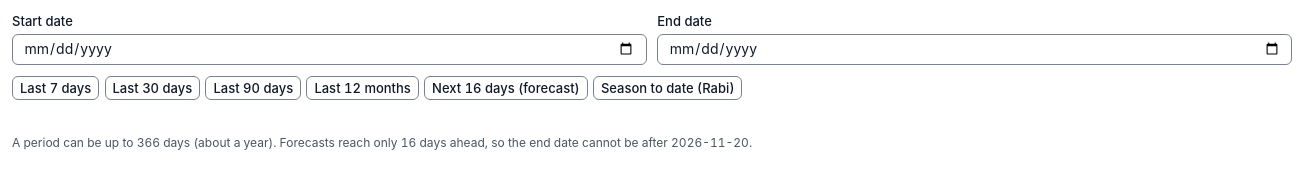
Test case: DateRangeField › warns that long periods take longer, but not for short ones
Type "2026-10-01" into the date field labelled "Start date" at (329, 49), box [12,34,647,65]
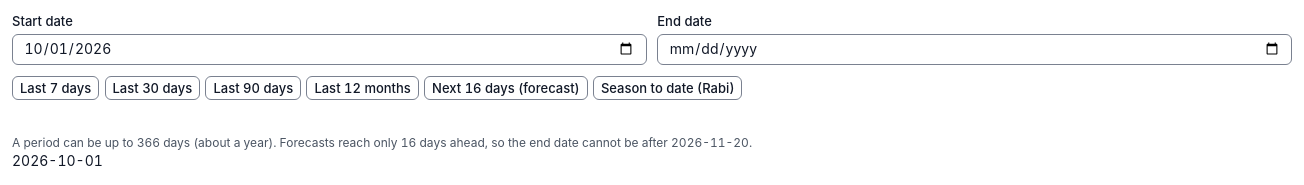
Type "2026-11-04" into the date field labelled "End date" at (975, 49), box [657,34,1292,65]
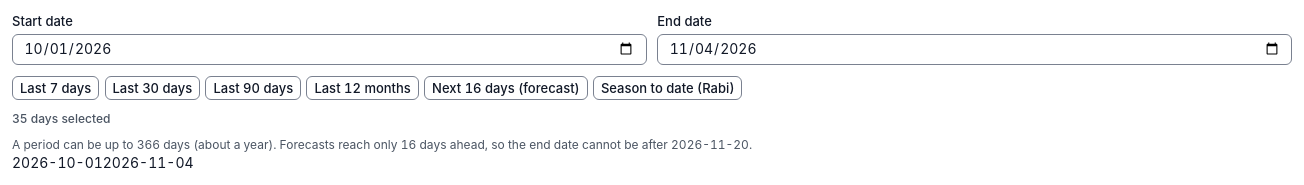
Expected: the text "35 days selected" is shown, [12,110,110,126]
Type "2026-04-01" into the date field labelled "Start date" at (329, 49), box [12,34,647,65]
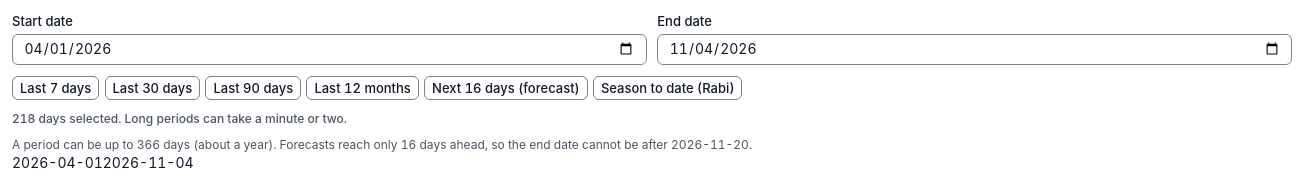
Expected: the text "218 days selected. Long periods can take a minute or two." is shown, [12,110,347,126]
